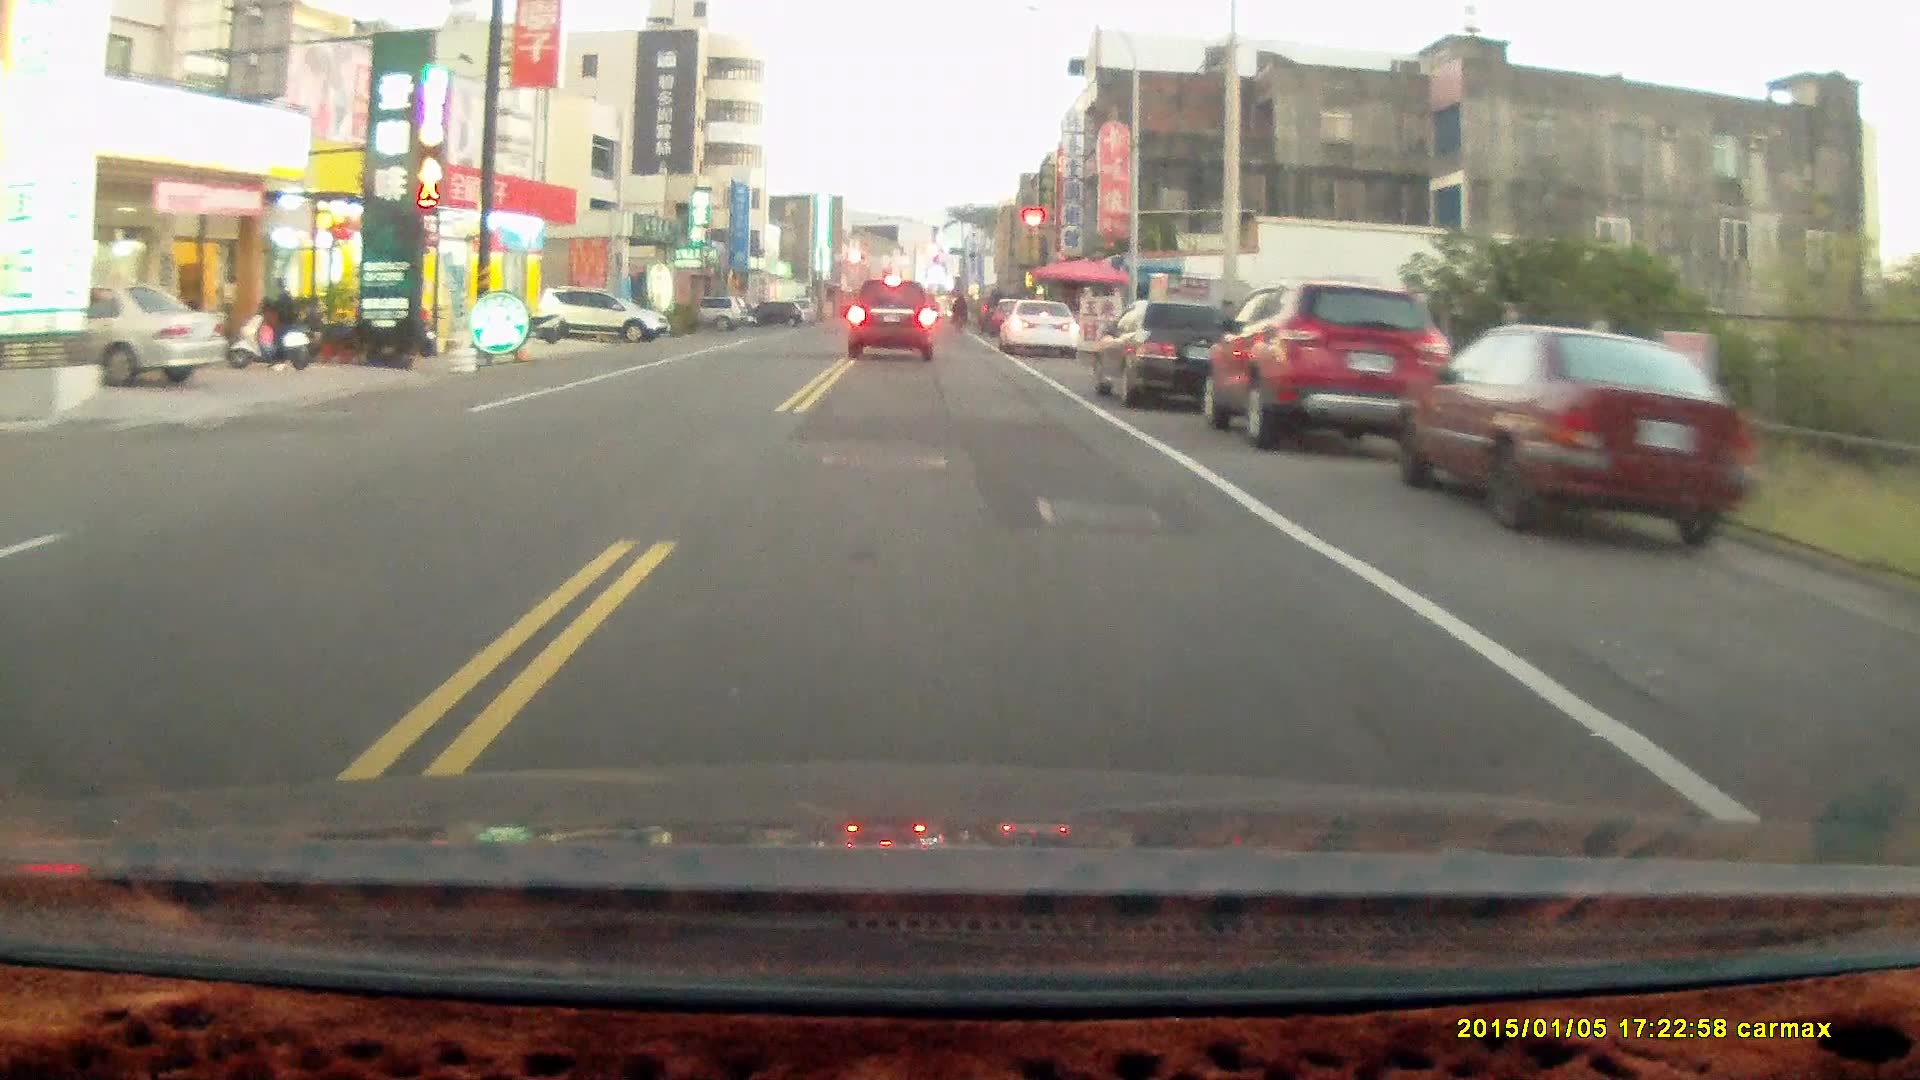vehicle: (1395, 324, 1762, 556), (1208, 276, 1465, 448), (9, 286, 229, 392), (1095, 301, 1251, 410), (535, 284, 673, 348), (847, 281, 938, 364), (1001, 297, 1081, 357)
